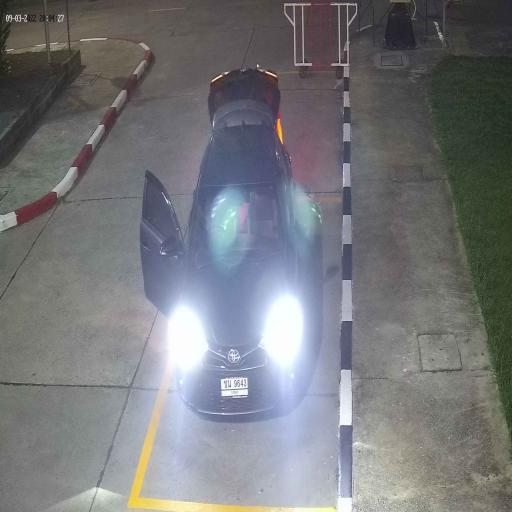car: (180, 127, 294, 415)
